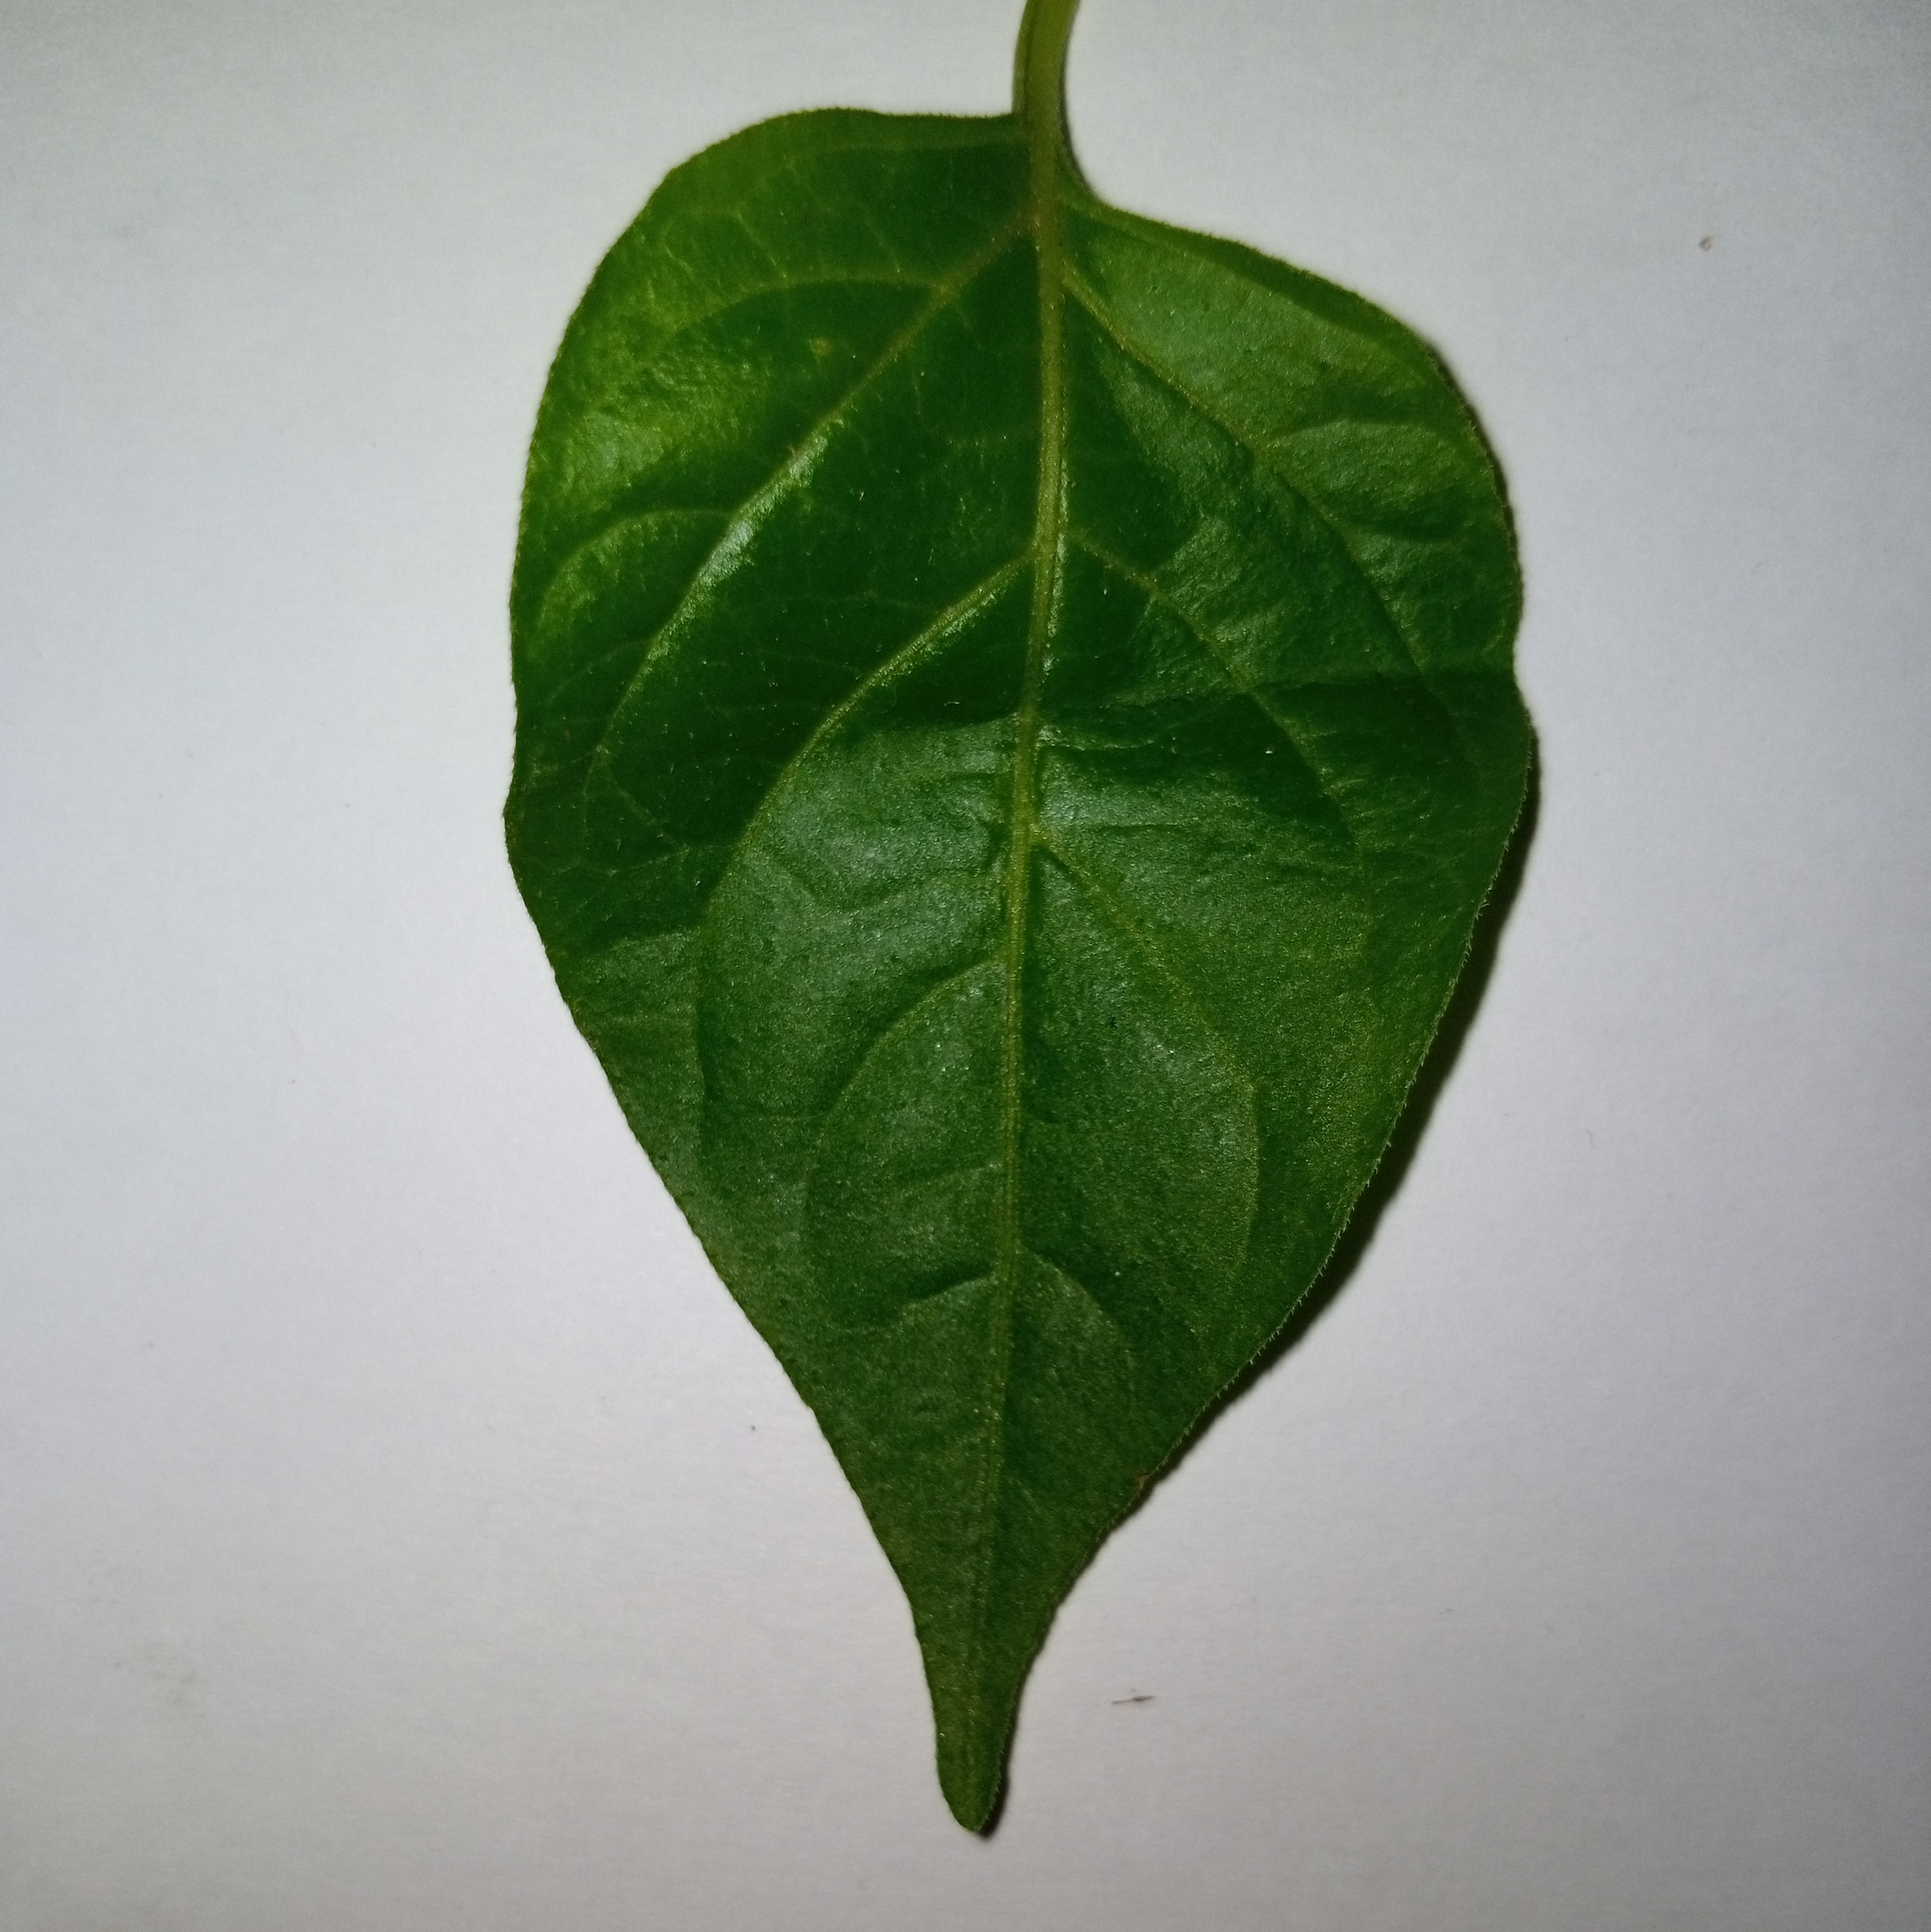Leaf: (405, 64, 1625, 1888)
